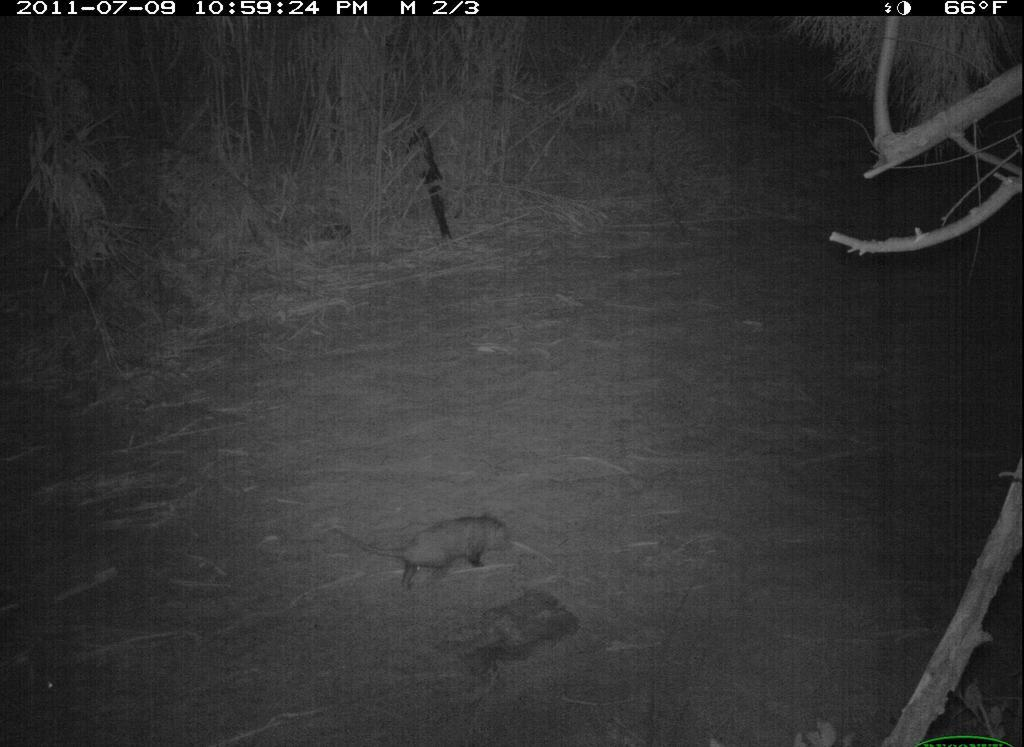opossum: (315, 500, 530, 602)
